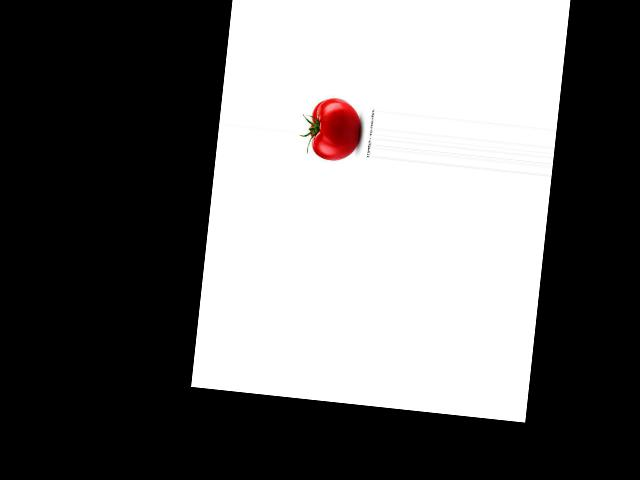tomato: (308, 96, 363, 163)
